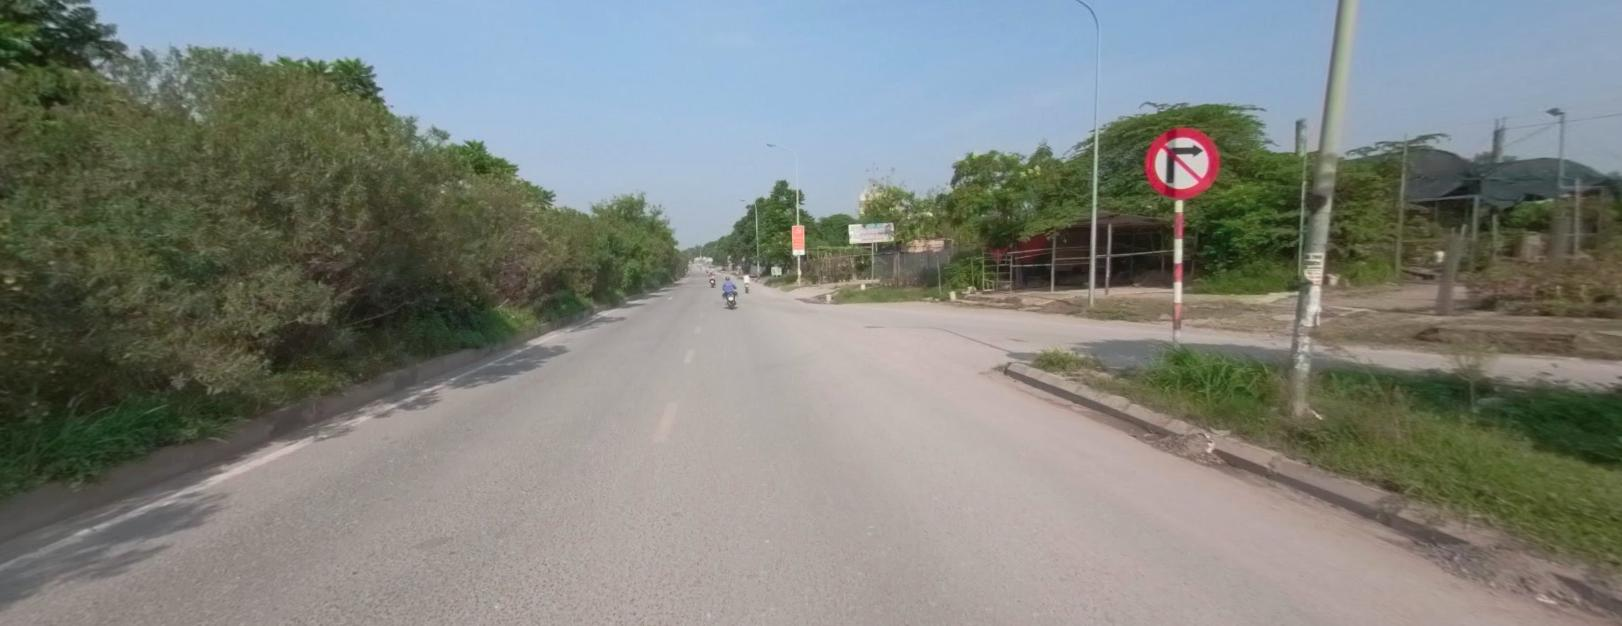Cam re: (1142, 123, 1221, 196)
